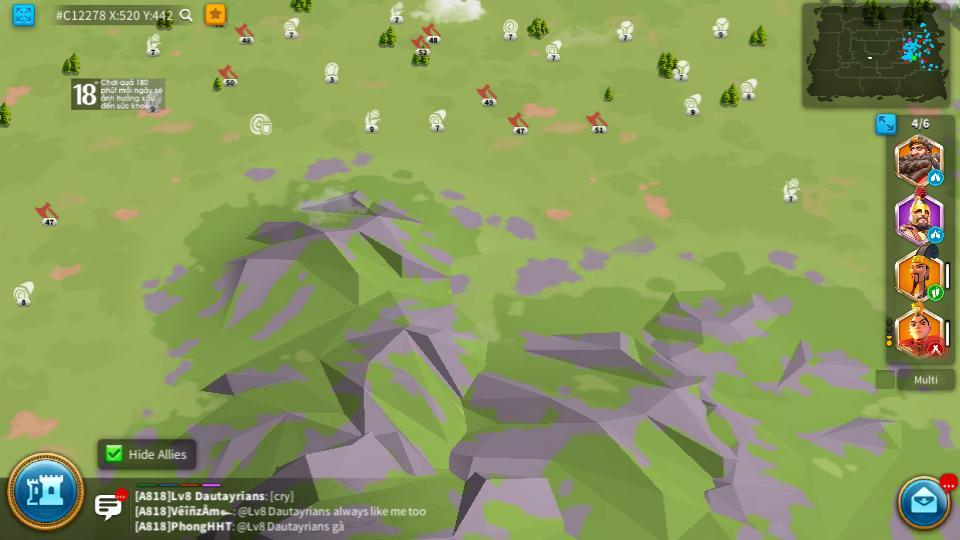gem-z-out: (322, 62, 340, 79)
march_attacking: (926, 343, 945, 356)
march_idle: (927, 170, 944, 185), (928, 228, 942, 240)
march_marching: (928, 287, 942, 299)
